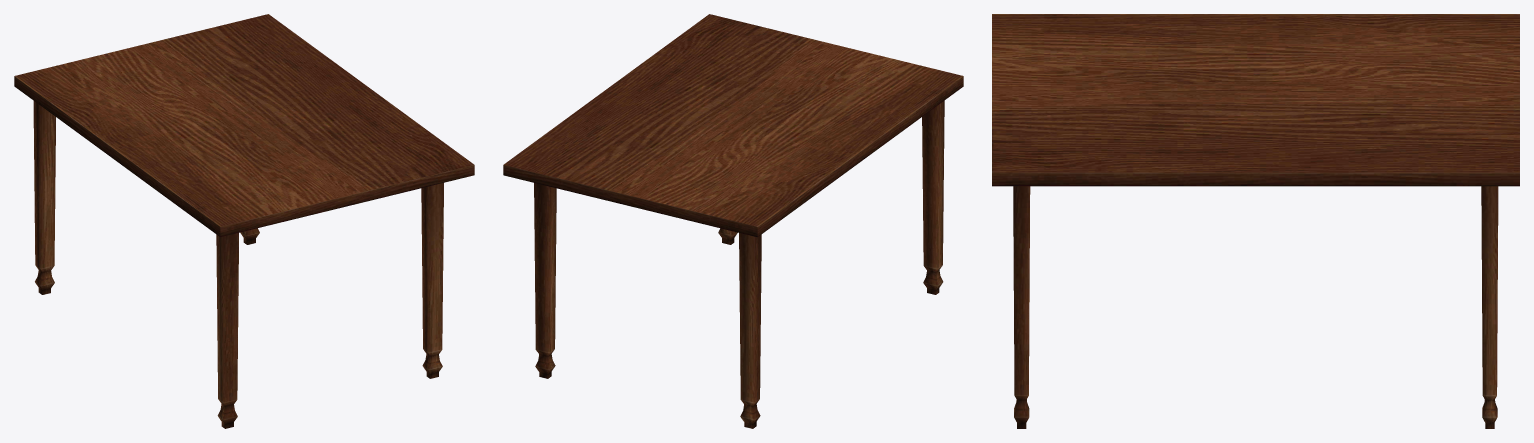
File: OfficeWoodTable.fbx
3 views of the same model, side by side, from view 1: azimuth 30°, elevation 25°; view 2: azimuth 150°, elevation 25°; view 3: azimuth 270°, elevation 25° (orthographic). The views are drawn at different scales.
Visible parts, largest first — view 1: OfficeWoodTable; view 2: OfficeWoodTable; view 3: OfficeWoodTable.
Boxes of the visible parts, x1,y1,x2,y2 form: OfficeWoodTable: [14, 14, 474, 428]; OfficeWoodTable: [503, 14, 963, 428]; OfficeWoodTable: [992, 14, 1519, 428].
Bounding box in the file's own units: 1.72 × 1.37 × 2.41.
